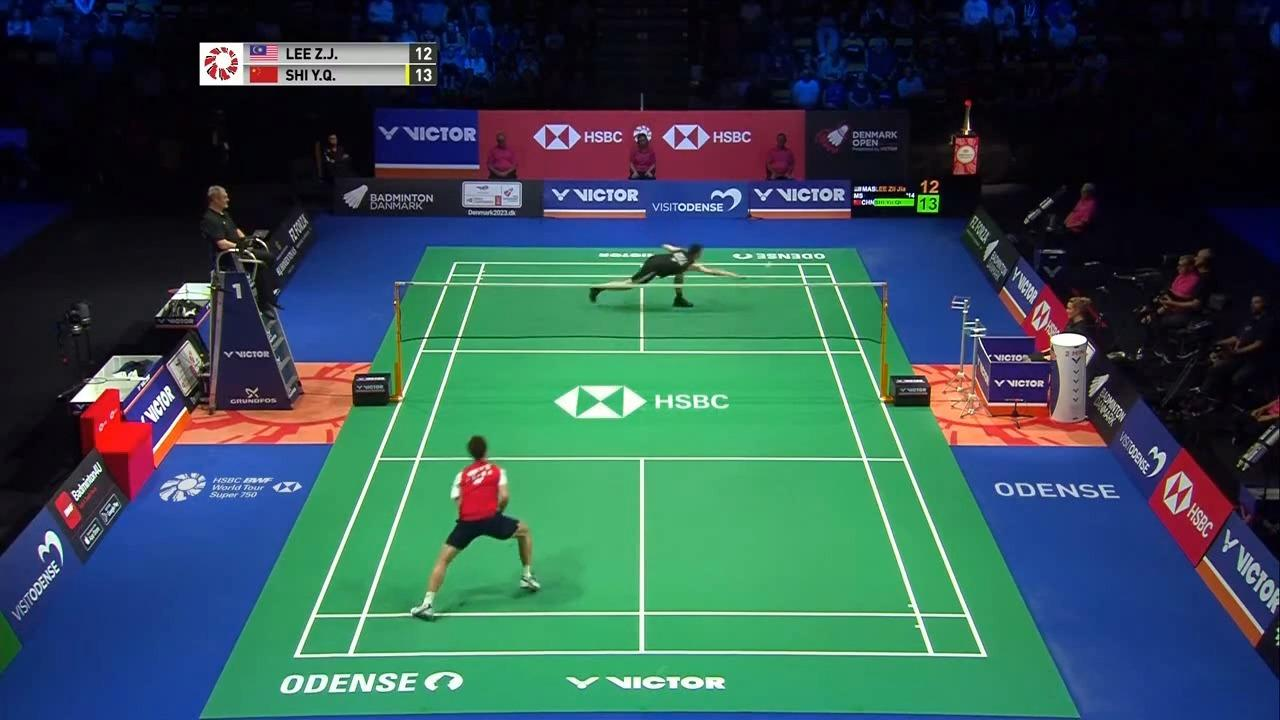shuttle: (765, 259, 777, 277)
